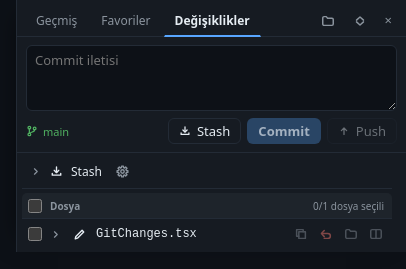
Test case: değişikliklerde dosya adı ve yol › düğme klasör ön ekini getiriyor ve geri alıyor
Click the button named "Klasör yollarını göster". click: (328, 20)
box: [315,8,341,34]
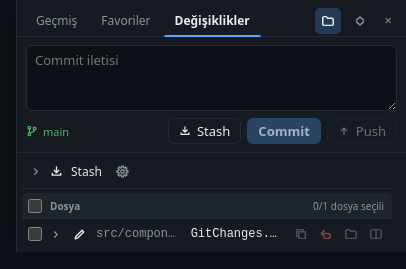
Expected: the text with class "git-path" reads "GitChanges.tsx", [191,227,291,241]
Expected: the text "src/components/" is shown, [96,227,182,241]
Expected: the text with class "git-dir" reads "src/components/", [96,227,204,241]
Click the button named "Klasör yollarını gizle". click: (328, 20)
box: [315,8,341,34]
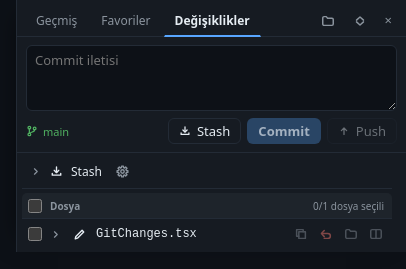
Expected: the text with class "git-dir" is gone
